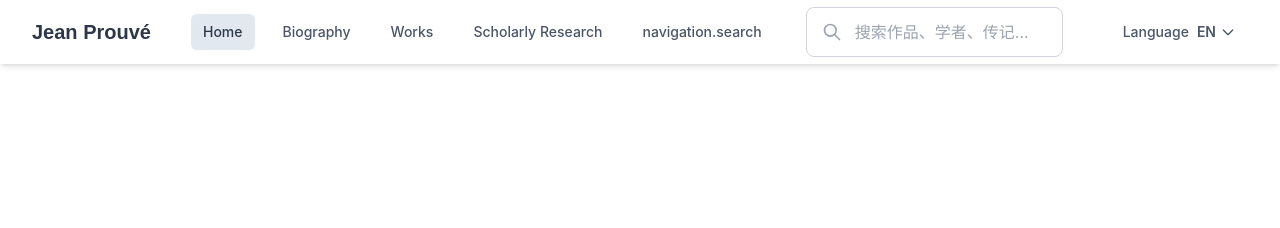
Scenario: MainNavigation › Language Switching Functionality › closes language dropdown after language selection
What coordinates should you click on to do the following:
click the button "Language EN"
I would click on:
 (1179, 32)
Its box is [1111, 10, 1248, 54].
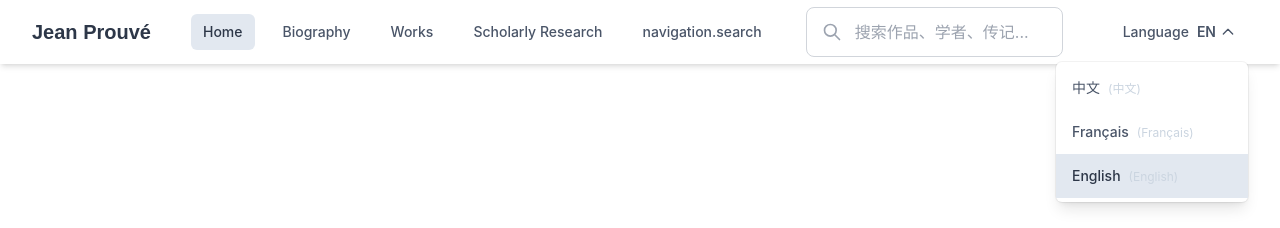
What coordinates should you click on to do the following:
click the menu item "中文(中文)"
I would click on:
 (1152, 88)
Its box is [1056, 66, 1248, 110].
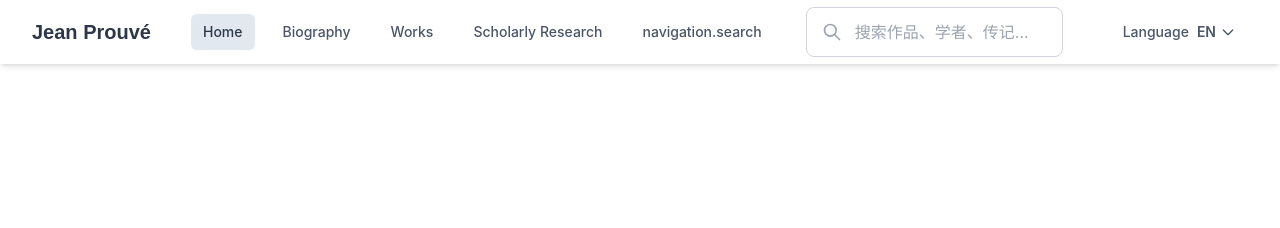
Now the menu item "Français" is gone
